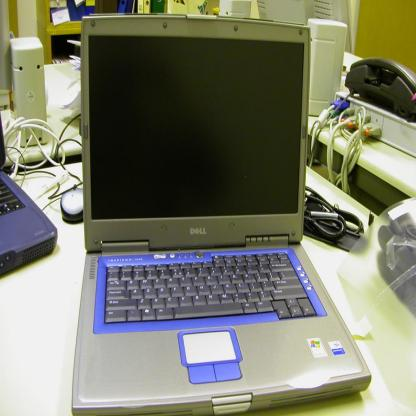board: (70, 15, 361, 405), (0, 112, 57, 276)
